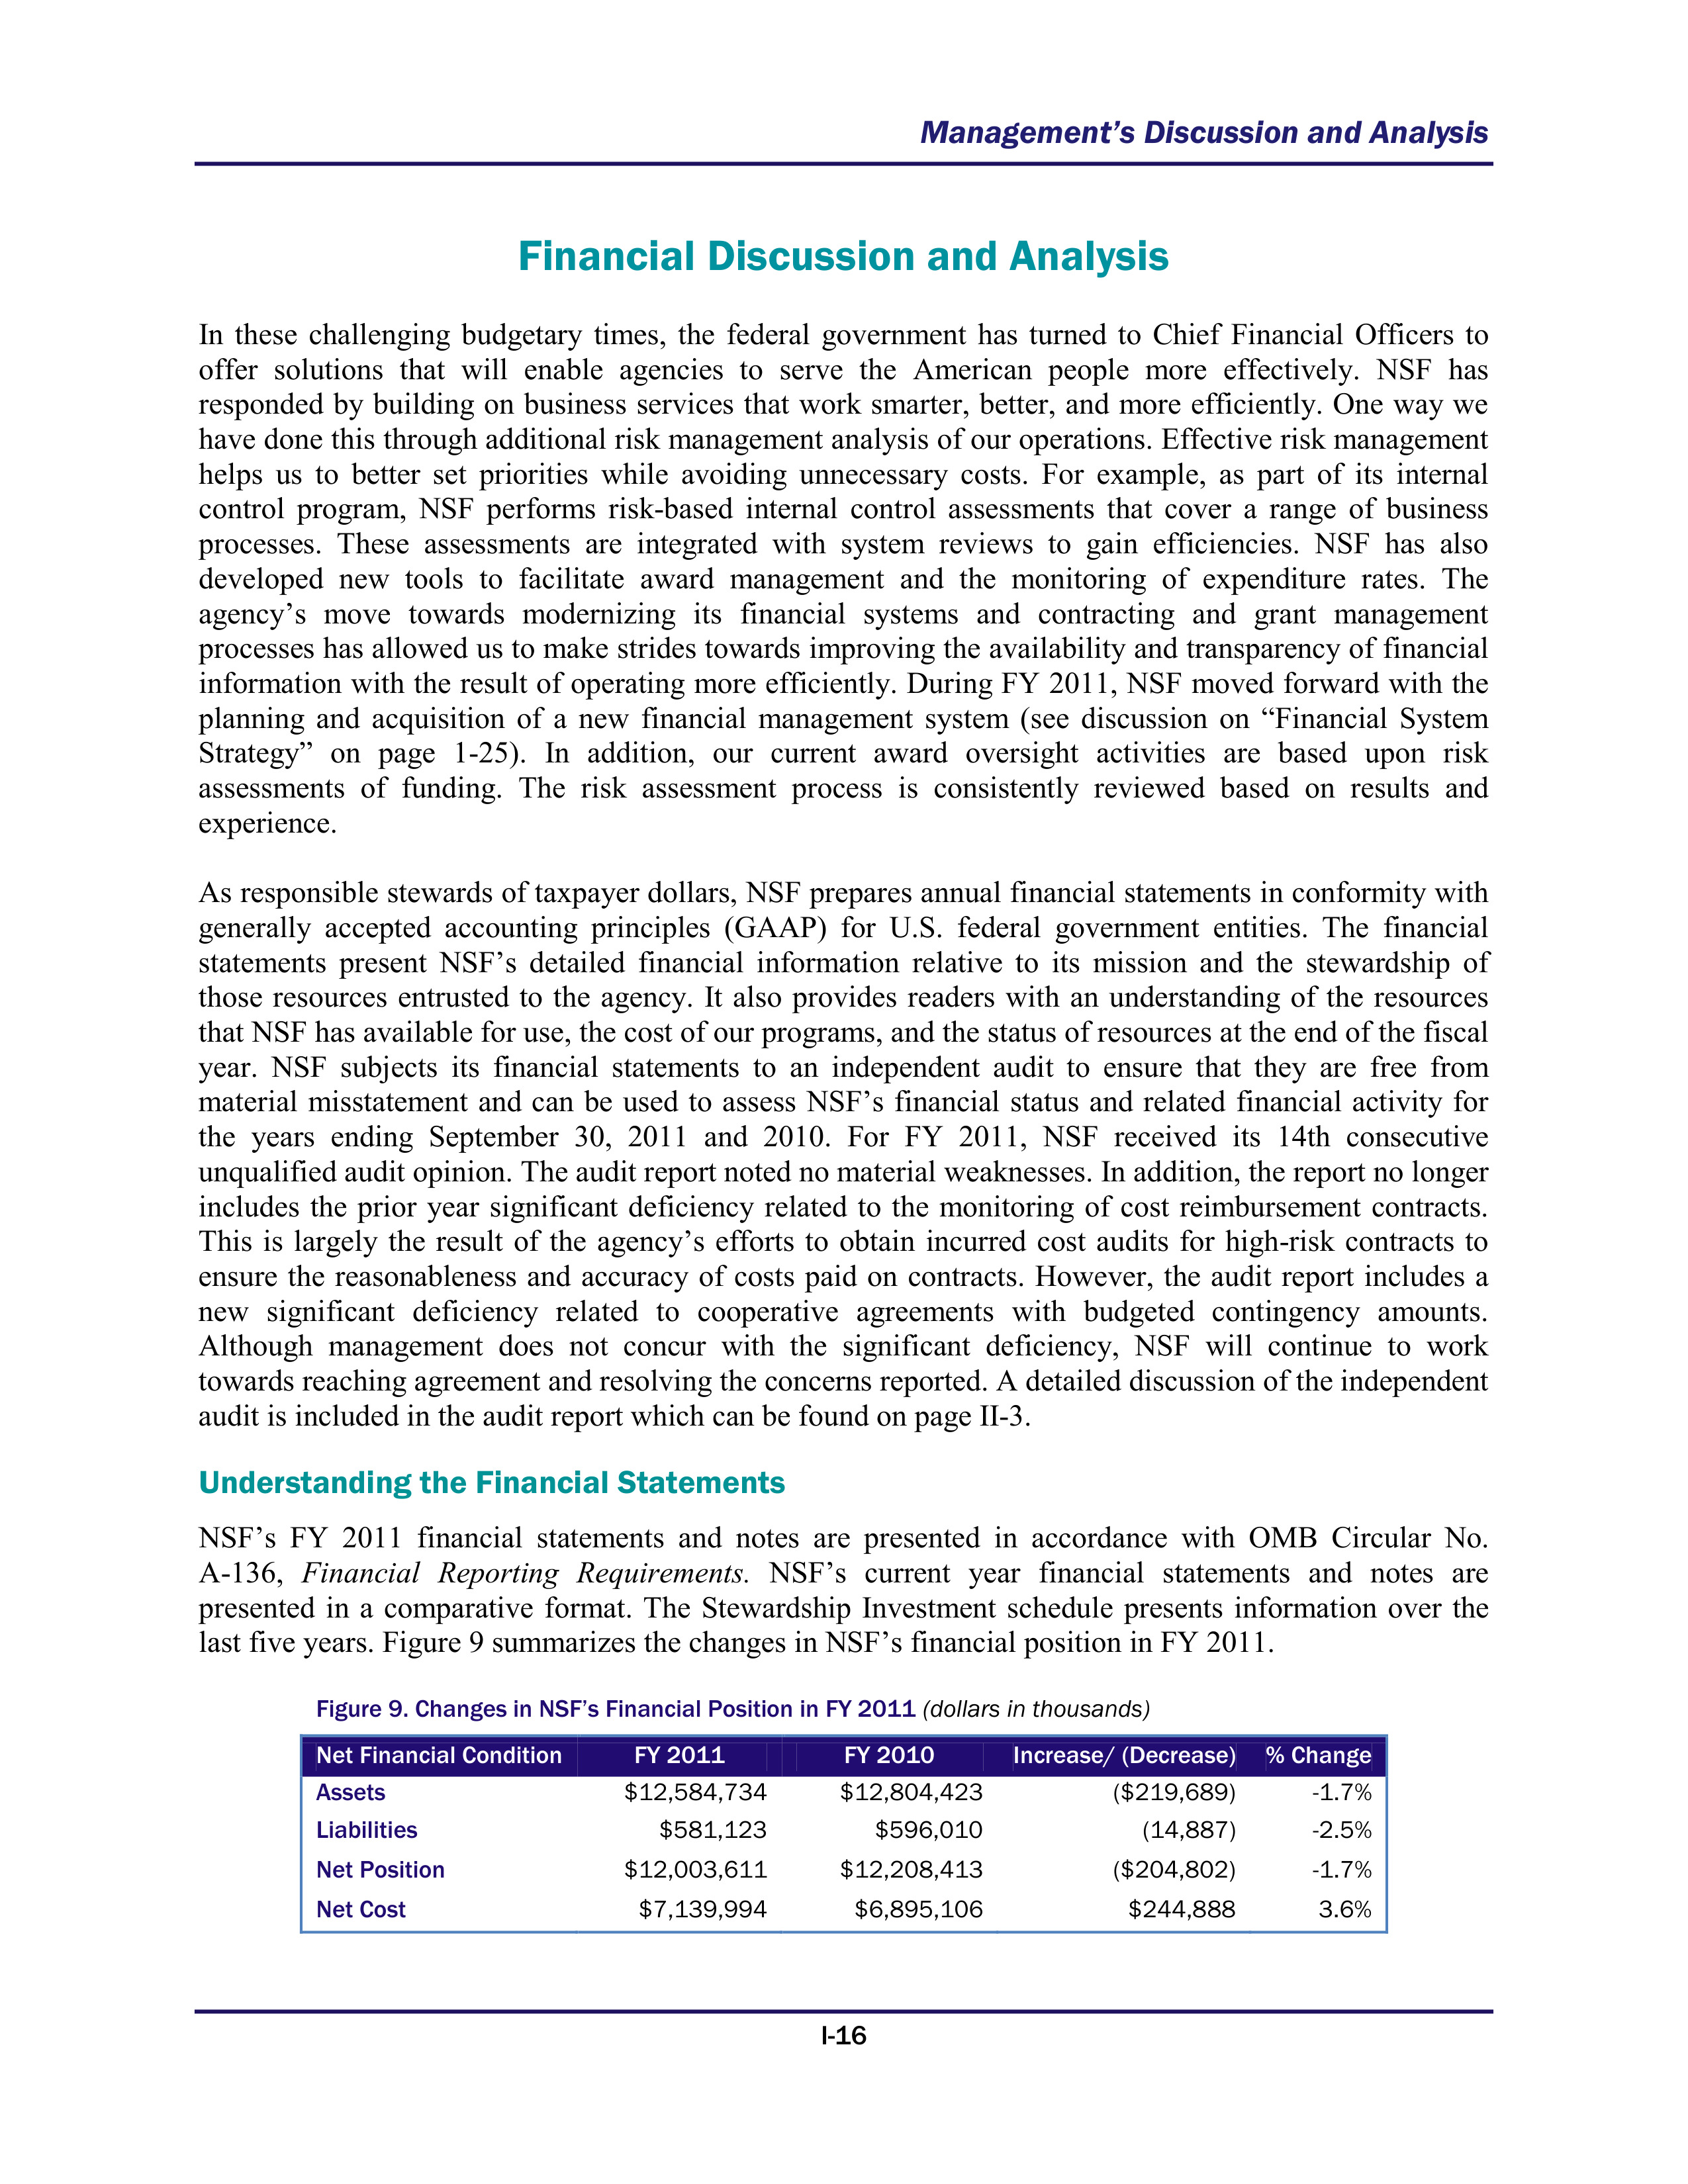table: (316, 1741, 1372, 1923)
